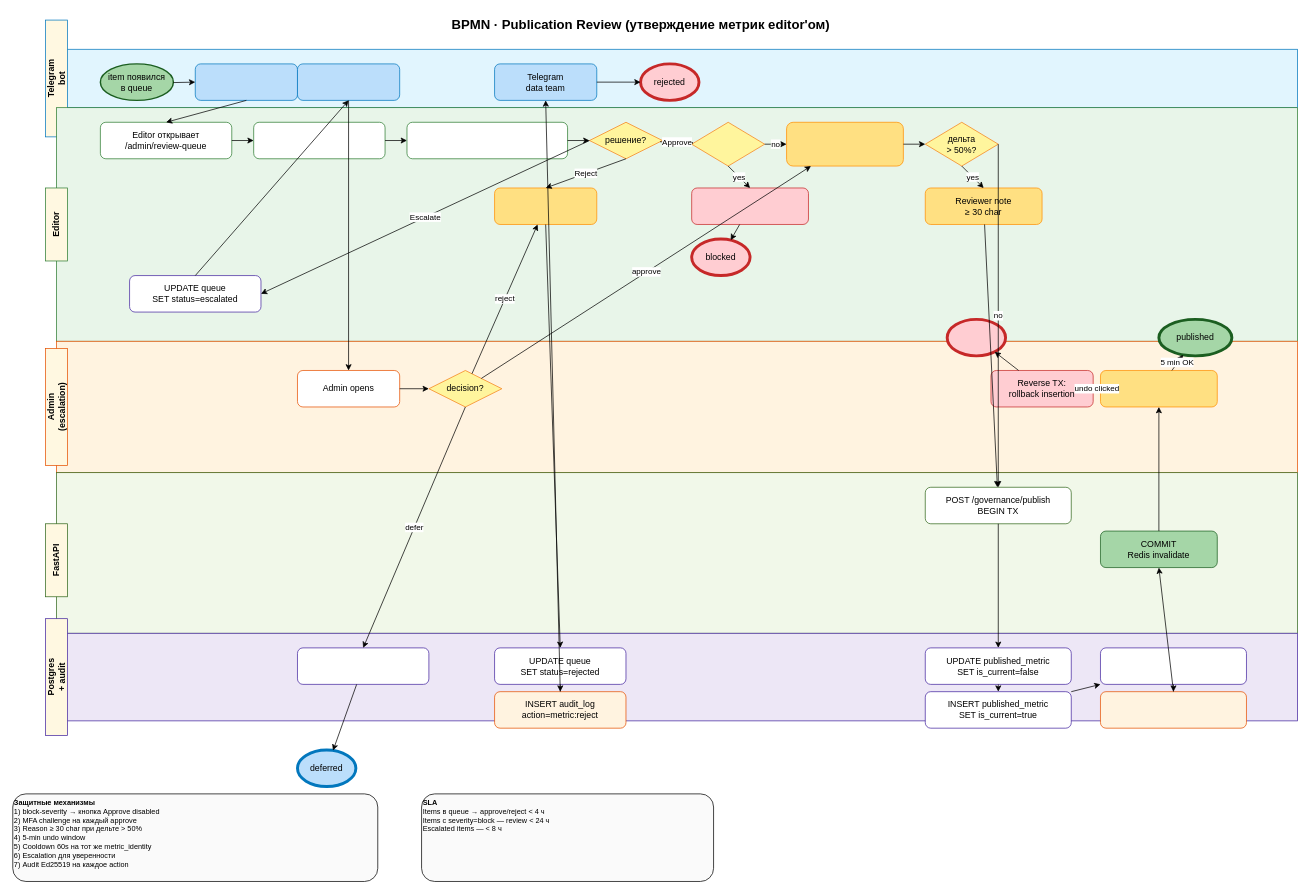
Image size: 1310x894. Some labels were removed from this diagram. Here are the shapes that lost their labels. From the top down, the centre of each, then its label:
point 246,81: Telegram «N новых items»
point 348,81: Telegram admin channel
point 319,140: Сортирует по severity: block → watch → info
point 487,140: Open item details: дельта · история · source URL
point 728,144: severity = block?
point 844,144: MFA challenge (TOTP refresh)
point 545,205: Require reason ≥ 30 char
point 749,205: UI Approve disabled (policy)
point 976,337: undone
point 1158,388: 5-min undo window
point 363,665: UPDATE queue defer_until=tomorrow
point 1173,665: UPDATE data_review_queue SET status=approved
point 1173,709: INSERT ops.audit_log + Ed25519 signature
